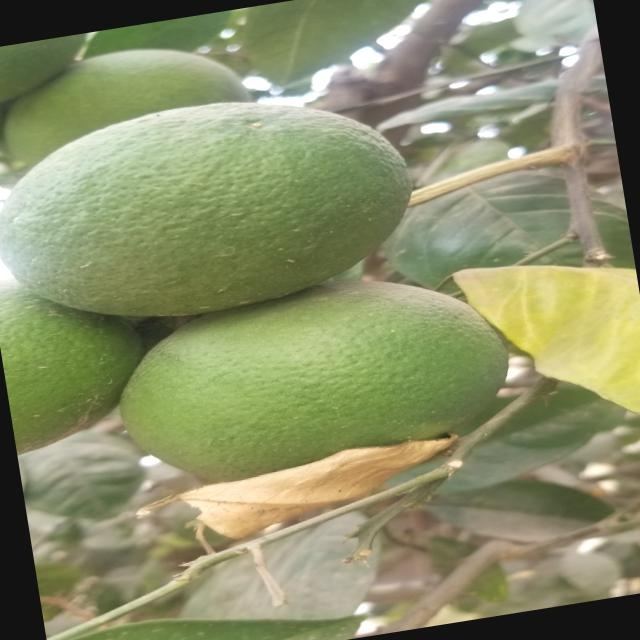agrume: (0, 74, 421, 355), (116, 263, 527, 517)
